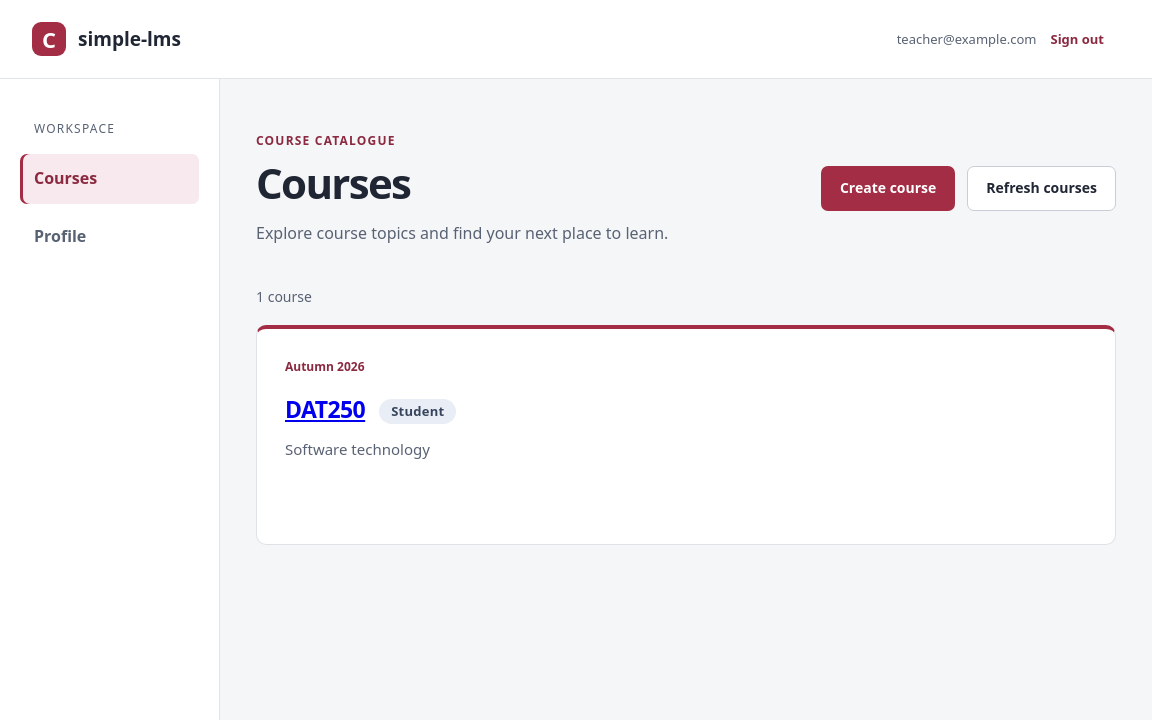
Test: App › opens courses by default and navigates through the shared layout
Expected: the heading "Courses" is shown, [256,154,410,211]
Expected: the heading "DAT250 Student" is shown, [285,393,456,425]
Click the link "Profile": [60, 236] box [34,225,86,247]
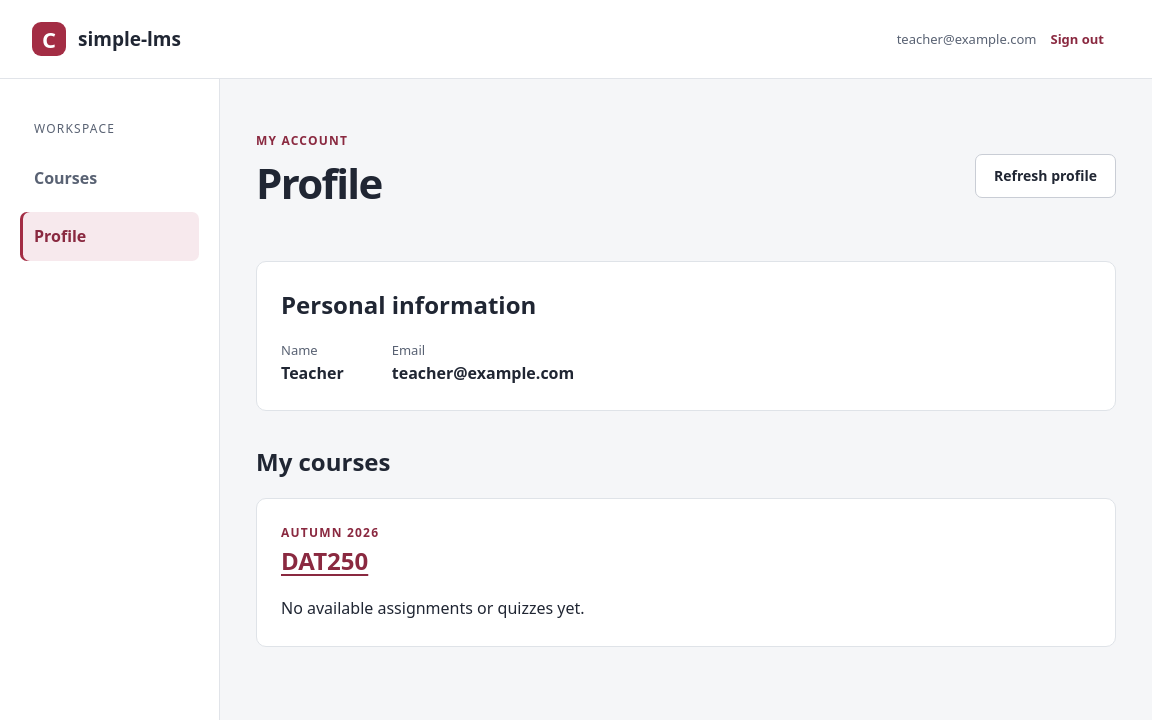
Expected: the number of headers is 1, [0,0,1151,79]
Now the heading "Profile" is shown, box [256,158,382,209]
